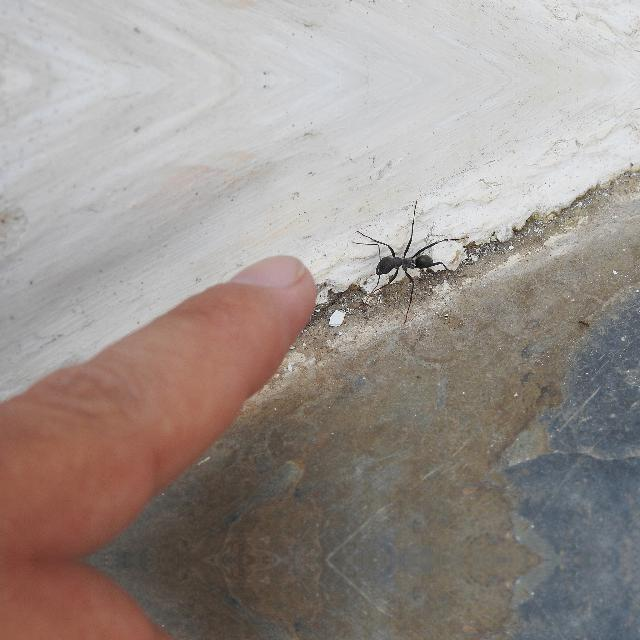Cataglyphis: (360, 231, 456, 291)
